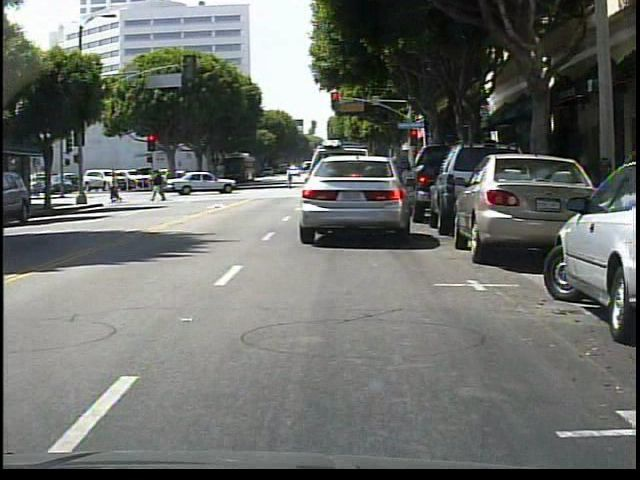person: (108, 173, 125, 205), (154, 170, 167, 203), (286, 166, 296, 190)
